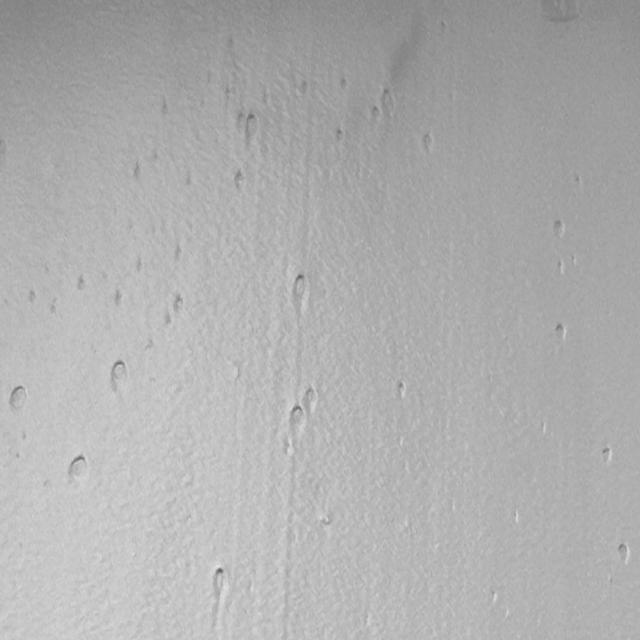pin holes: (542, 0, 581, 30), (108, 358, 134, 396), (289, 270, 311, 311), (64, 452, 89, 484), (286, 404, 309, 438), (209, 566, 231, 600), (5, 382, 29, 413), (242, 112, 261, 144), (378, 88, 398, 117), (614, 540, 634, 568), (420, 132, 439, 158), (302, 387, 320, 414), (172, 292, 190, 316), (231, 169, 248, 194), (551, 216, 569, 239), (551, 323, 569, 346), (598, 444, 614, 467), (129, 160, 145, 183), (24, 288, 40, 309), (281, 435, 293, 462), (370, 105, 385, 126), (134, 257, 148, 279), (76, 273, 91, 292), (114, 289, 128, 309), (396, 381, 409, 402), (0, 137, 11, 161), (163, 312, 176, 331), (175, 243, 186, 265), (572, 172, 586, 189), (338, 76, 351, 94), (162, 98, 172, 121), (555, 260, 567, 279), (50, 298, 62, 317), (334, 126, 347, 143), (299, 80, 312, 97), (487, 588, 499, 606), (319, 513, 332, 528), (570, 255, 581, 269), (22, 430, 32, 445), (14, 452, 24, 462)
